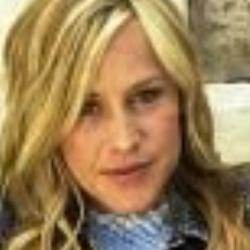face: (3, 1, 230, 220)
